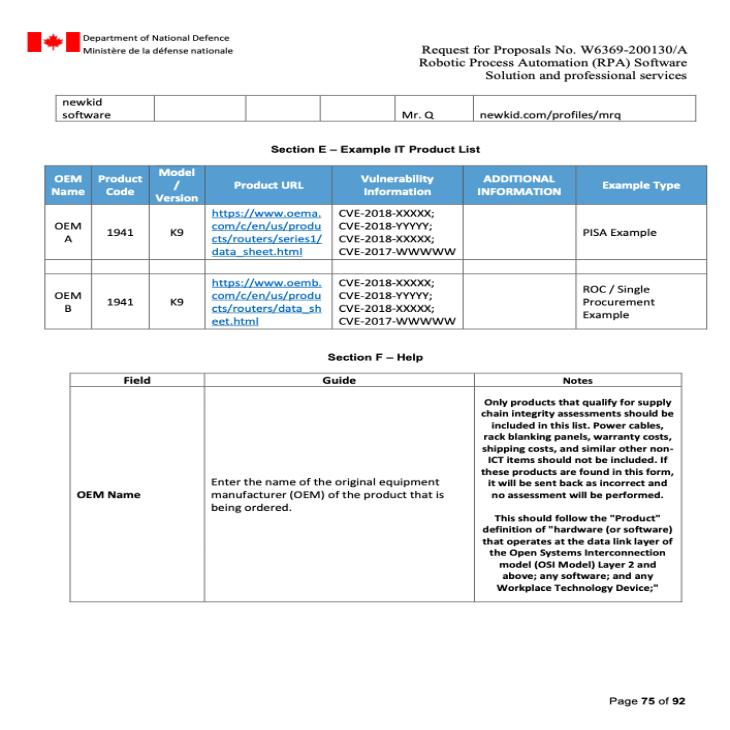cell: (207, 386, 473, 604), (475, 387, 683, 604), (74, 388, 204, 602), (334, 203, 460, 259), (335, 275, 459, 328), (576, 206, 704, 256), (205, 275, 326, 327), (210, 204, 330, 256), (581, 274, 700, 326), (476, 95, 697, 122), (98, 204, 146, 259), (58, 94, 152, 122), (96, 275, 144, 327), (45, 275, 90, 326), (155, 207, 200, 256), (155, 277, 198, 327), (48, 206, 91, 254), (395, 95, 471, 122)
head: (474, 367, 686, 388), (204, 369, 474, 385), (207, 168, 330, 202), (335, 167, 460, 200), (582, 168, 704, 201), (469, 168, 577, 201), (94, 166, 150, 203), (72, 370, 201, 386), (152, 166, 201, 204), (48, 167, 90, 201)
tabulation: (57, 362, 694, 615), (40, 160, 713, 334), (47, 89, 705, 130)
